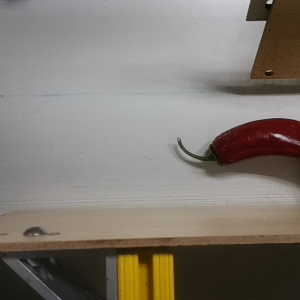Cut Point: (202, 137, 233, 169)
